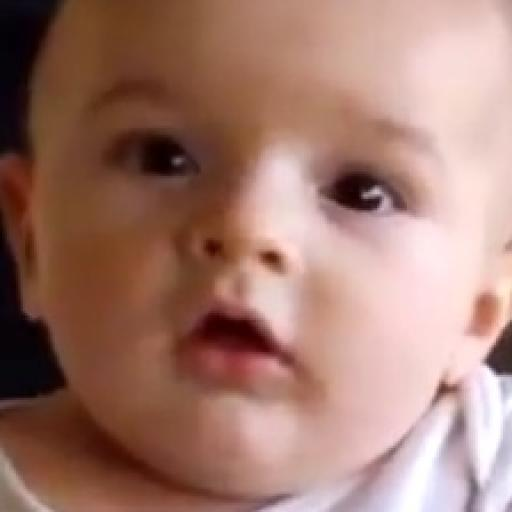Autism: (33, 12, 479, 484)
